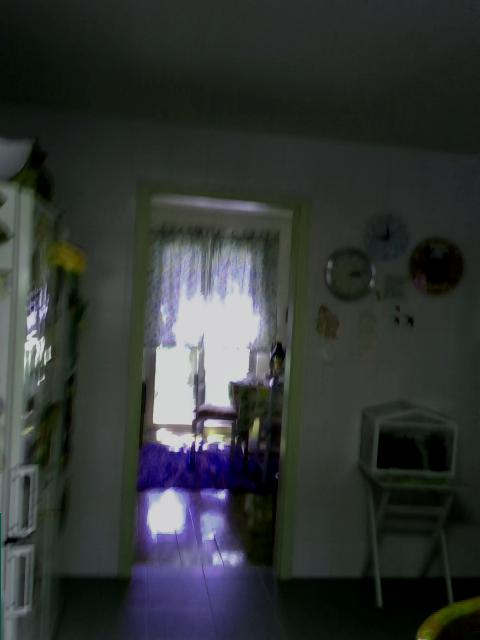open_door: (119, 173, 311, 582)
